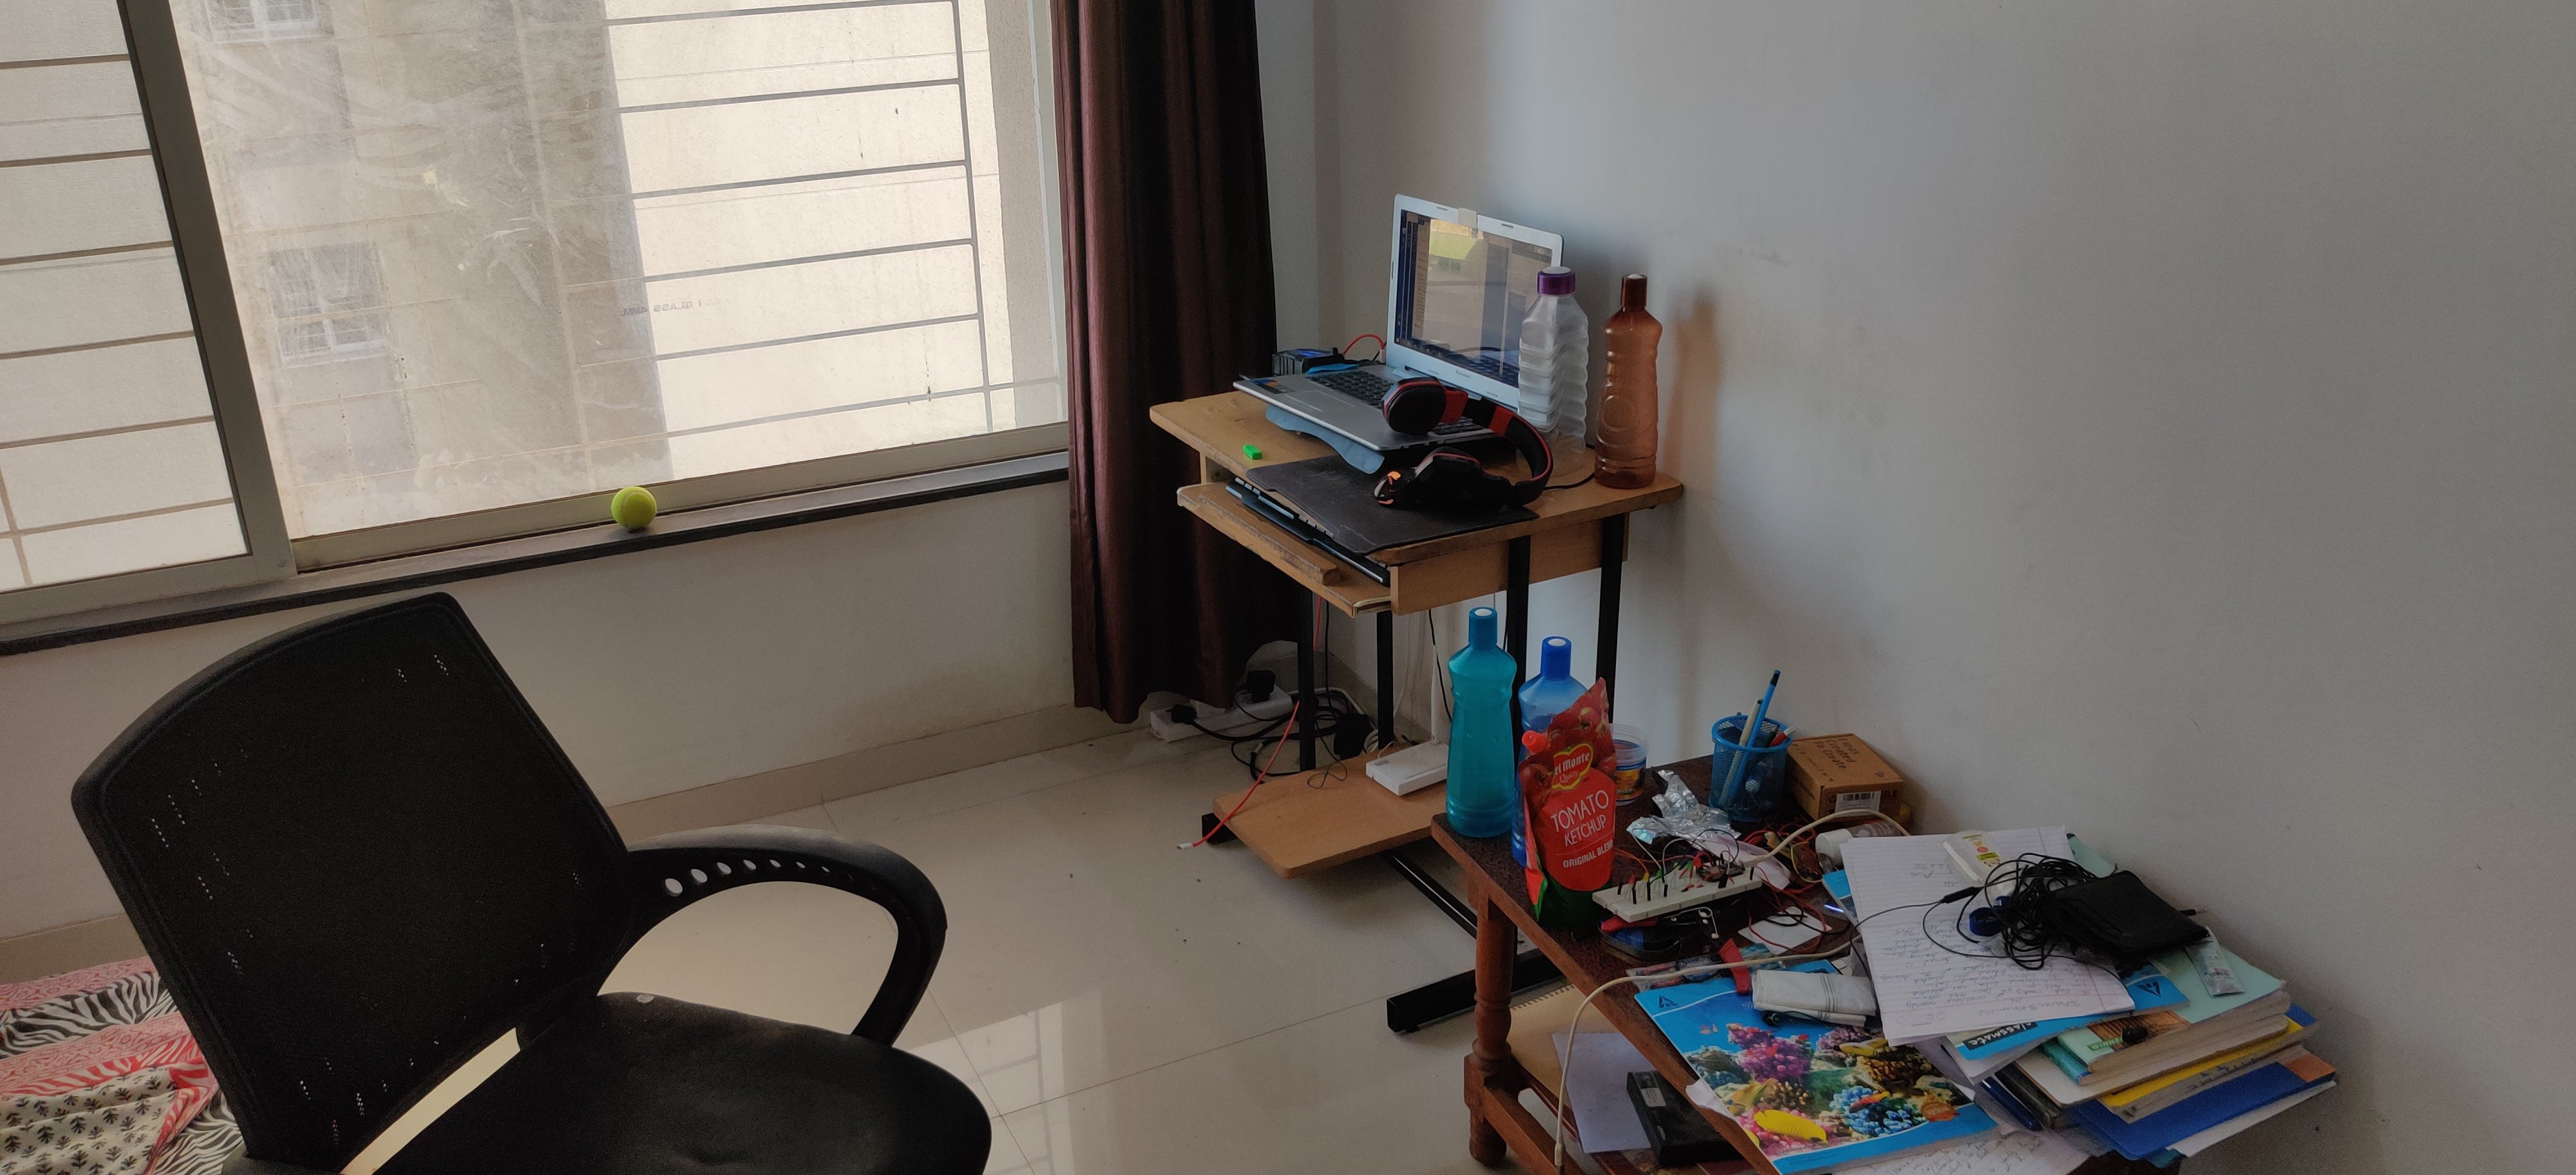Tennis-Ball: (611, 486, 657, 530)
